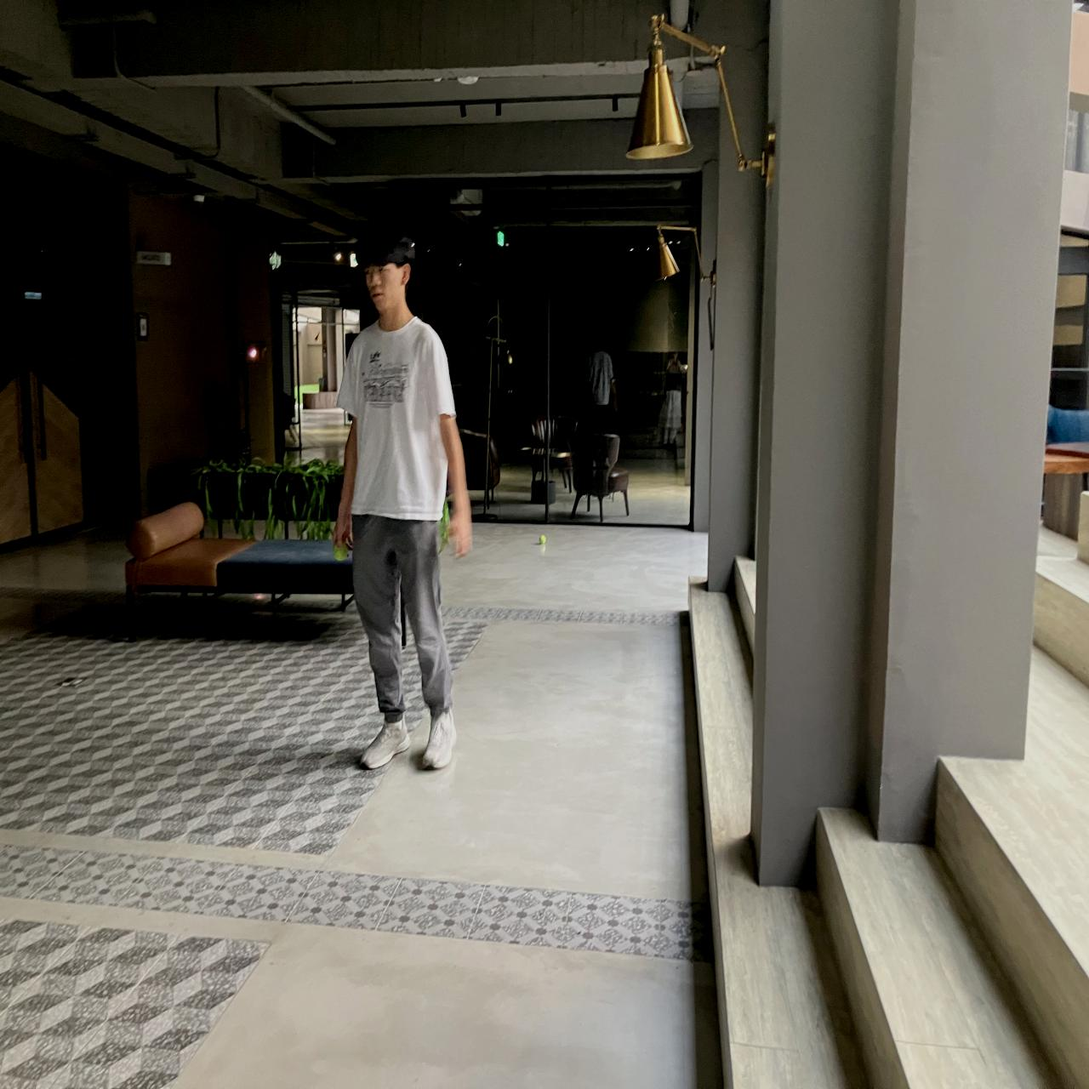person: (334, 234, 471, 768)
tennisball: (334, 544, 349, 561), (539, 535, 546, 544)
